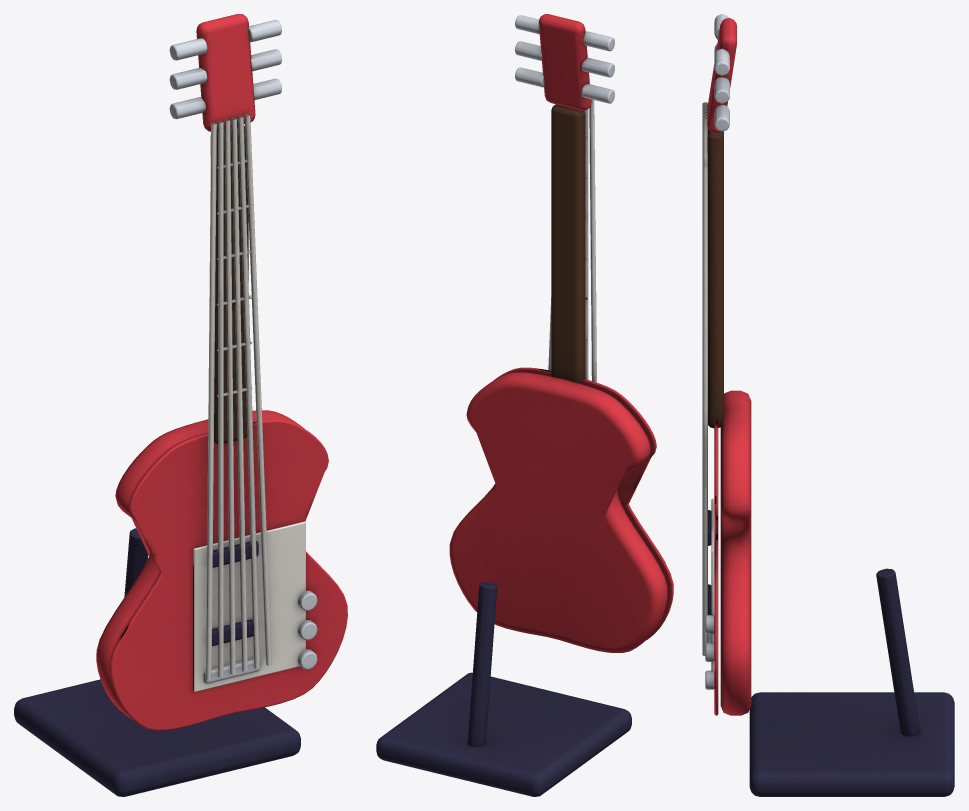
Rendered from ElectricGuitar.fbx.
3 renders of one model, left to right at view 1: azimuth 30°, elevation 25°; view 2: azimuth 150°, elevation 25°; view 3: azimuth 270°, elevation 25°, orthographic. The views are drawn at different scales.
Visible parts, largest first — view 1: ElectricGuitar_Body, String_0_Mesh.001, String_5_Mesh.001, String_2_Mesh.001, String_3_Mesh.001, String_4_Mesh.001, String_1_Mesh.001; view 2: ElectricGuitar_Body, String_0_Mesh.001, String_1_Mesh.001; view 3: ElectricGuitar_Body, String_5_Mesh.001.
Part boxes in pixels (x1,y1,x2,y2): ElectricGuitar_Body: (14,14,347,796); String_0_Mesh.001: (206,122,216,680); String_5_Mesh.001: (244,114,271,665); String_2_Mesh.001: (224,119,235,674); String_3_Mesh.001: (231,117,247,671); String_4_Mesh.001: (238,116,259,668); String_1_Mesh.001: (218,121,223,677); ElectricGuitar_Body: (376,14,673,796); String_0_Mesh.001: (589,99,596,382); String_1_Mesh.001: (584,109,588,379); ElectricGuitar_Body: (704,14,954,796); String_5_Mesh.001: (702,118,707,655).
Bounding box in the file's own units: 0.3809 × 1.18 × 0.369.
